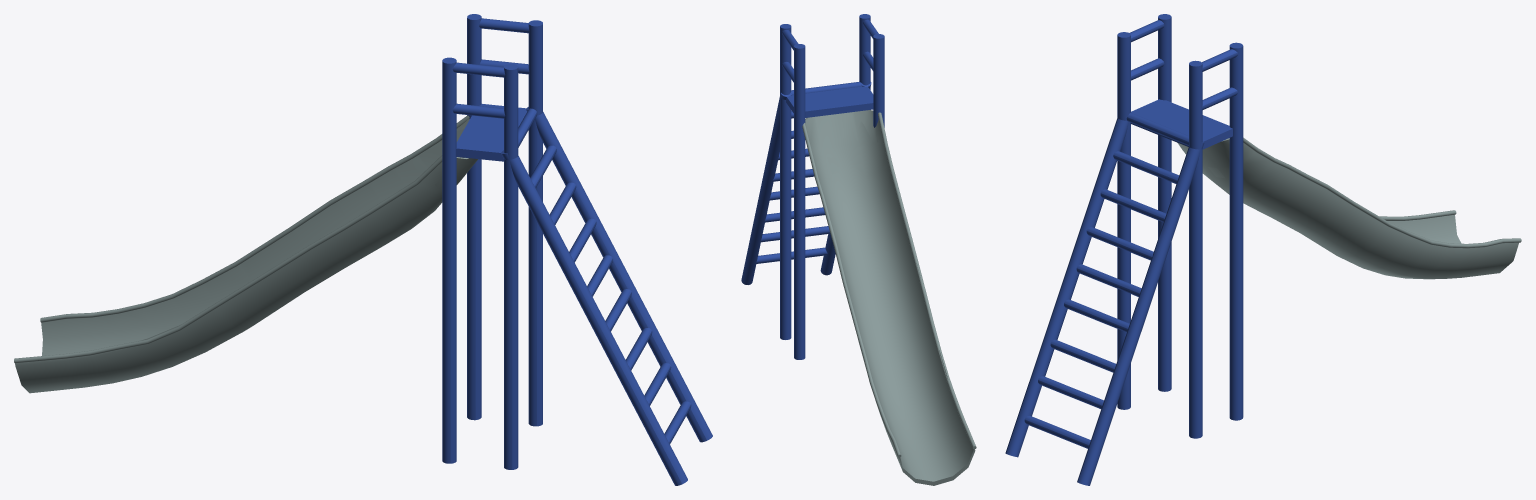
The model's file is playground1.obj.
3 views of the same model, side by side, from view 1: azimuth 30°, elevation 25°; view 2: azimuth 150°, elevation 25°; view 3: azimuth 270°, elevation 25° (orthographic). The views are drawn at different scales.
Parts seen in each view (by area): view 1: tsu2, tsu1; view 2: tsu1, tsu2; view 3: tsu2, tsu1.
Boxes of the visible parts, x1,y1,x2,y2 form: tsu2: (442, 14, 712, 485); tsu1: (14, 115, 478, 393); tsu1: (802, 110, 976, 485); tsu2: (741, 14, 884, 359); tsu2: (1005, 14, 1243, 485); tsu1: (1177, 137, 1521, 279).
Size of the model in its own units: 290 by 223 by 279.
